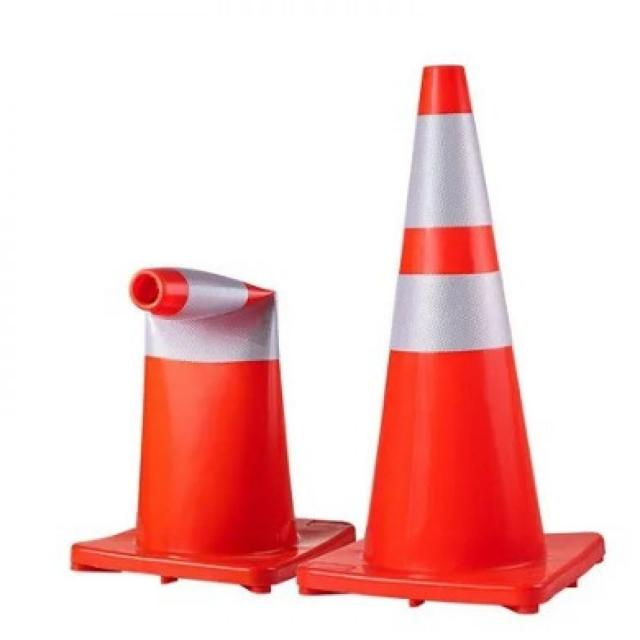cone: (349, 62, 590, 607)
